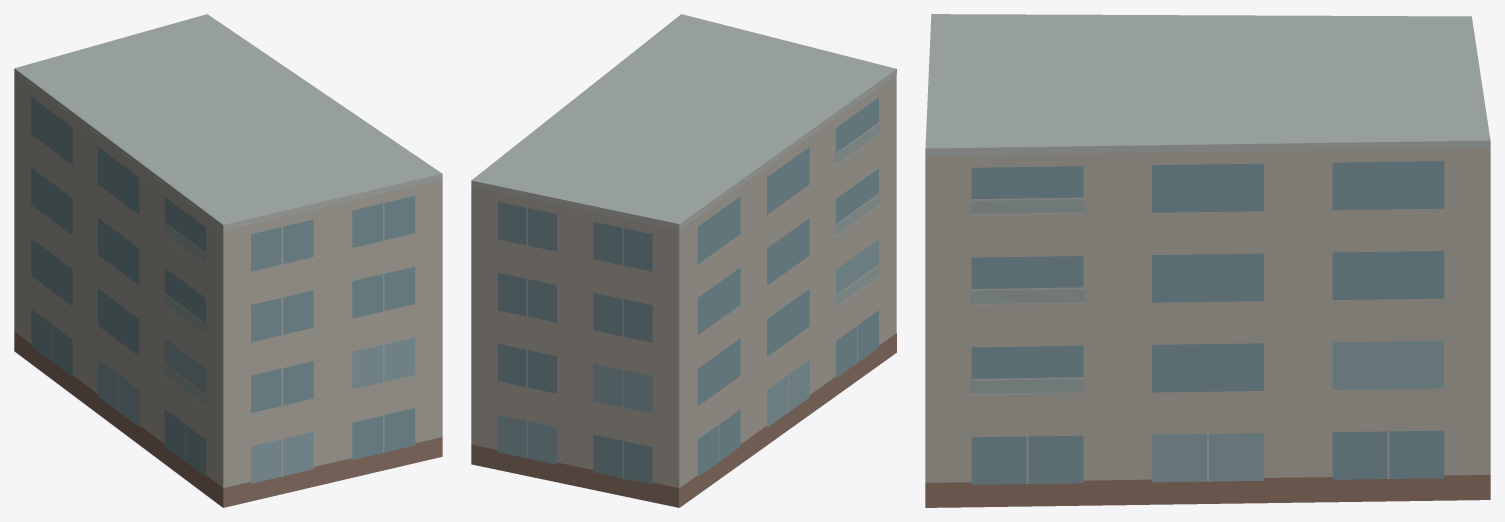
Rendered from survey-upis-32804224.glb.
3 renders of one model, left to right at view 1: azimuth 30°, elevation 25°; view 2: azimuth 150°, elevation 25°; view 3: azimuth 270°, elevation 25°, orthographic. The views are drawn at different scales.
Parts seen in each view (by area): view 1: survey-upis-32804224.tmp; view 2: survey-upis-32804224.tmp; view 3: survey-upis-32804224.tmp.
Boxes of the visible parts, left/top/right/bottom form: survey-upis-32804224.tmp: left=14, top=14, right=442, bottom=507; survey-upis-32804224.tmp: left=471, top=14, right=896, bottom=507; survey-upis-32804224.tmp: left=925, top=14, right=1490, bottom=507.
Bounding box in the file's own units: 9.42 × 11.7 × 16.69.
